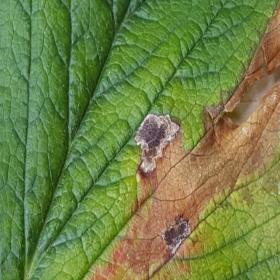Angular Leafspot: (81, 1, 279, 279)
